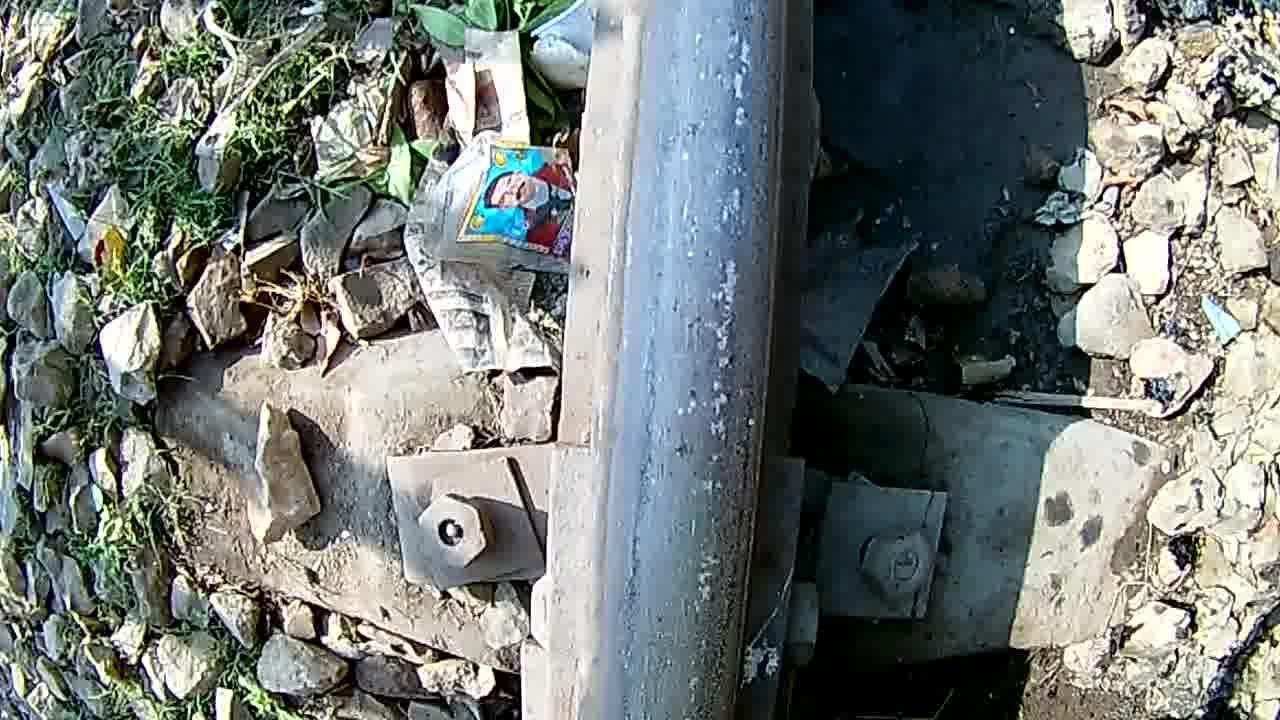crack: (582, 2, 788, 720)
